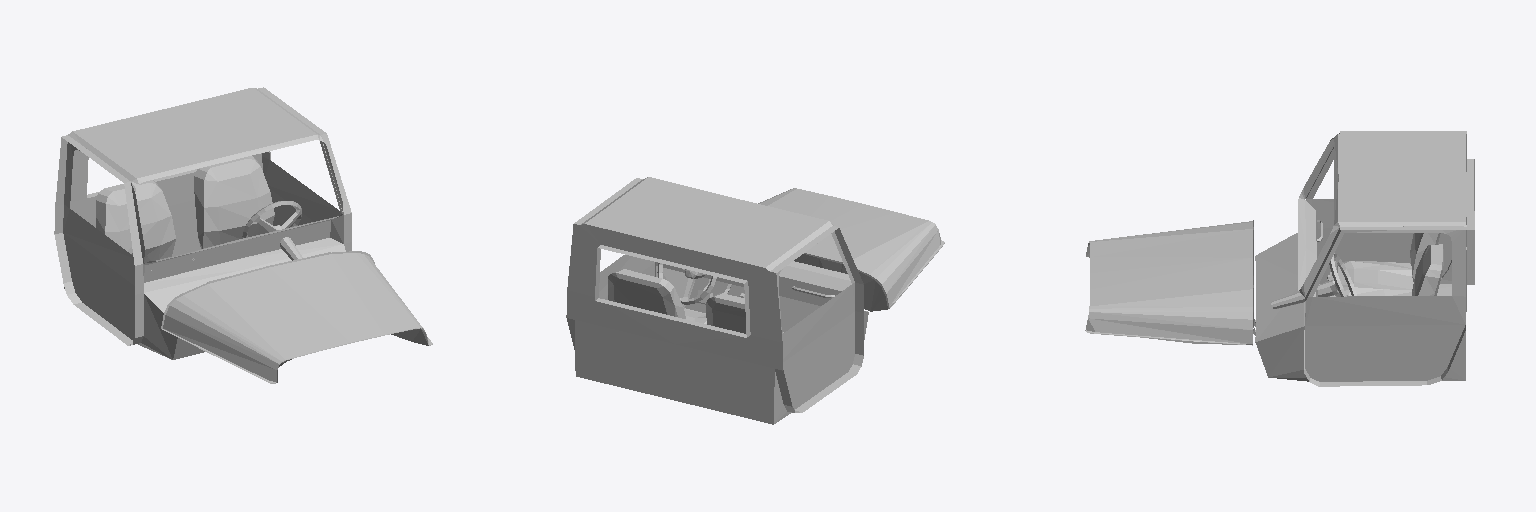
Rendered from interior.obj.
3 views of the same model, side by side, from view 1: azimuth 30°, elevation 25°; view 2: azimuth 150°, elevation 25°; view 3: azimuth 270°, elevation 25° (orthographic).
Size of the model in its own units: 3.53 by 2.44 by 5.48.